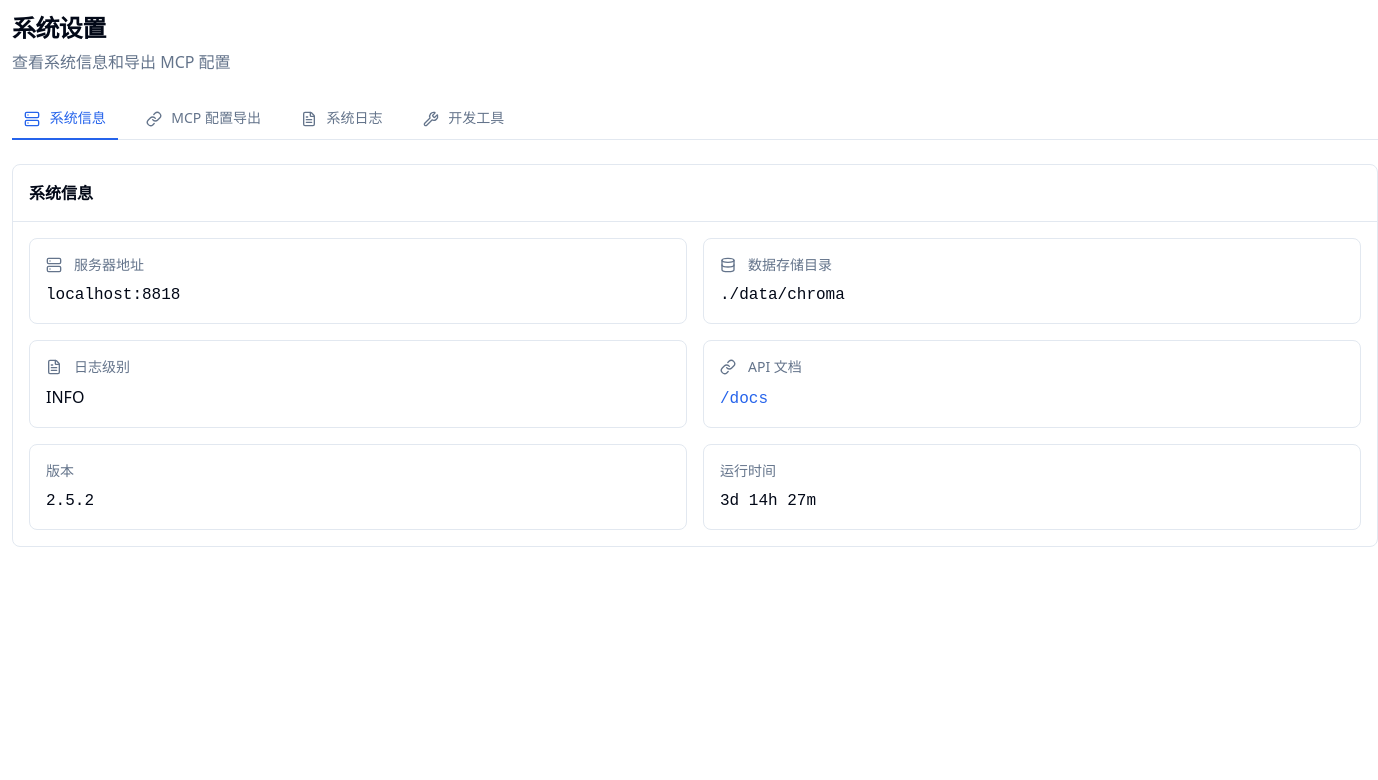
Settings.vue › should switch to Logs tab when clicked
This screenshot has width=1378, height=780.
// Click Logs tab
Click the button "系统日志" at (342, 119), box [289,98,394,140]
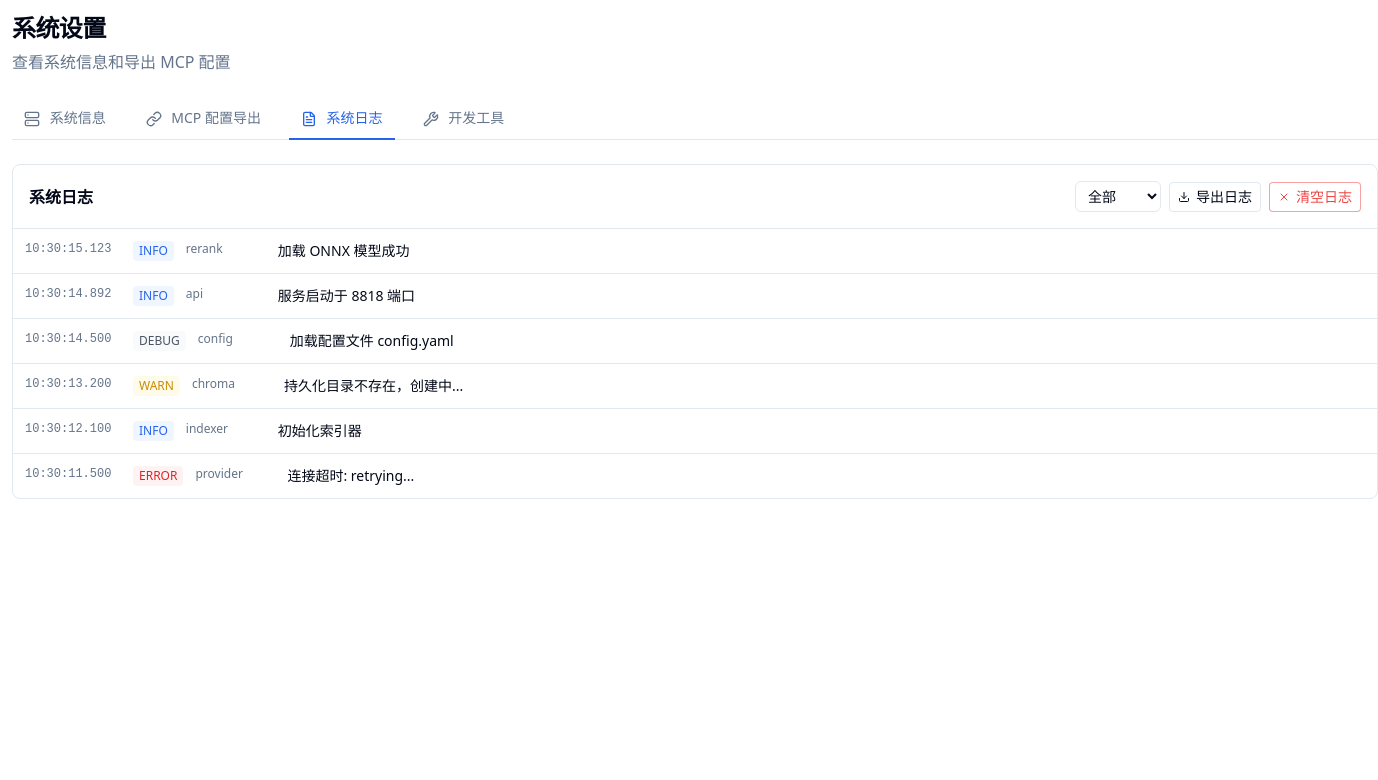
Check: the text "INFO" is shown, box [133,241,174,261]
Check: the text "WARN" is shown, box [133,376,180,396]
